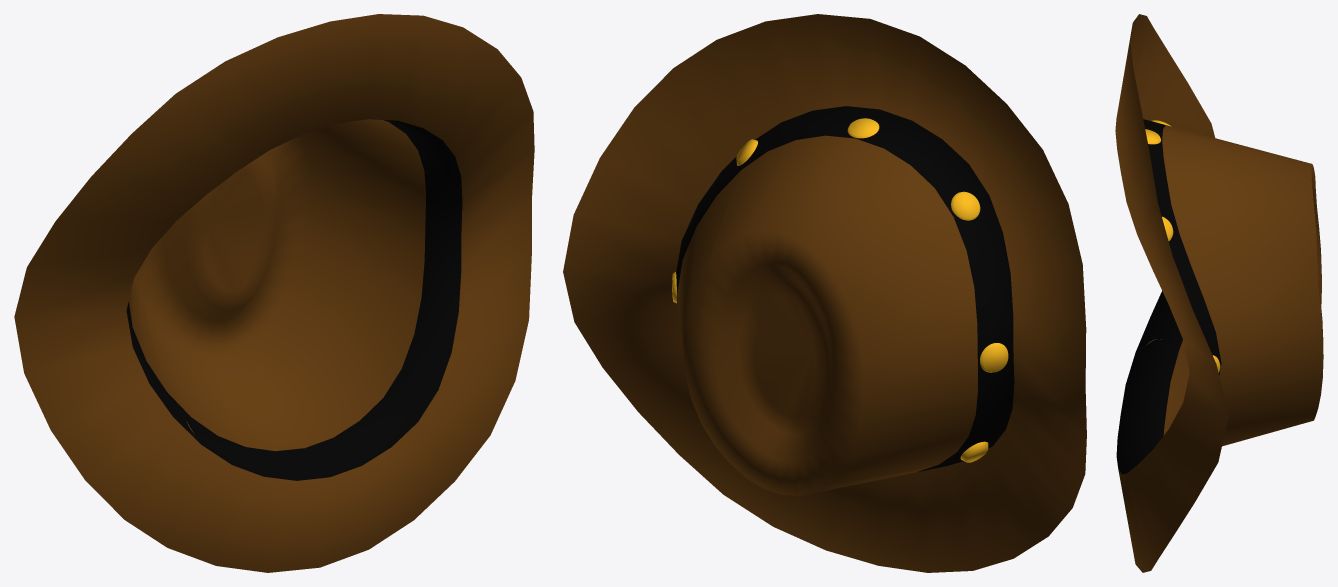
Rendered from CowboyHat.fbx.
3 views of the same model, side by side, from view 1: azimuth 30°, elevation 25°; view 2: azimuth 150°, elevation 25°; view 3: azimuth 270°, elevation 25° (orthographic). The views are drawn at different scales.
Parts seen in each view (by area): view 1: Circle.002; view 2: Circle.002; view 3: Circle.002.
Part boxes in pixels (left/top/right/bottom): Circle.002: left=14, top=14, right=534, bottom=572; Circle.002: left=563, top=14, right=1086, bottom=572; Circle.002: left=1115, top=14, right=1323, bottom=572.
Bounding box in the file's own units: 114 × 114 × 42.39.
